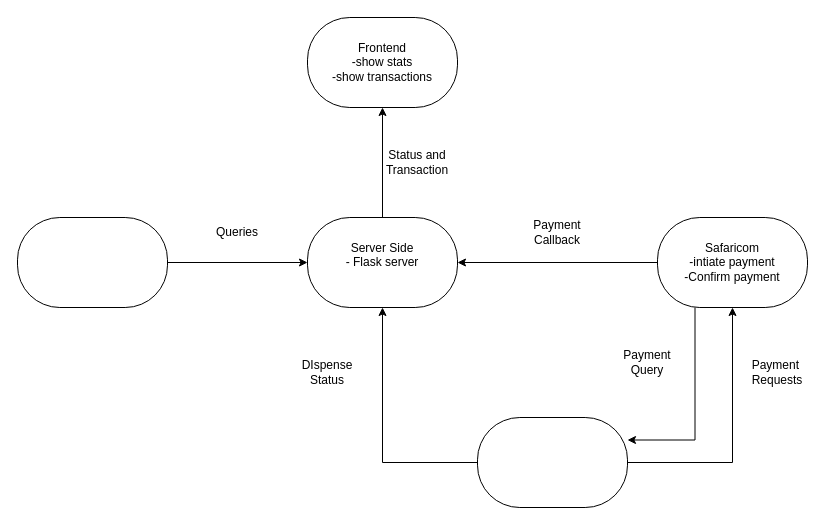
Image size: 825x525. Some labels were removed from this diagram. Here are the shapes that lost their labels. From the top down, the centre of each, then its label:
At [92,262]: "Database - Transactions -Farmer data".
At [552,462]: "Pi -get number -get amount - dispense".
